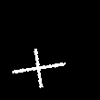single_crochet: (13, 49, 65, 87)
